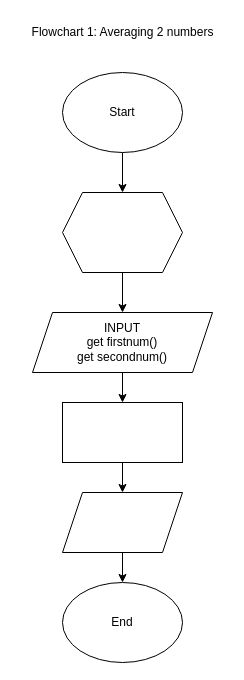
This 244x680 diagram has some shape labels left out. Each missing label, with the centre of its shape:
firstnum=0 secondsum=0 sum=0 ave=0: (x=122, y=232)
sum=firstsum: (x=122, y=432)
